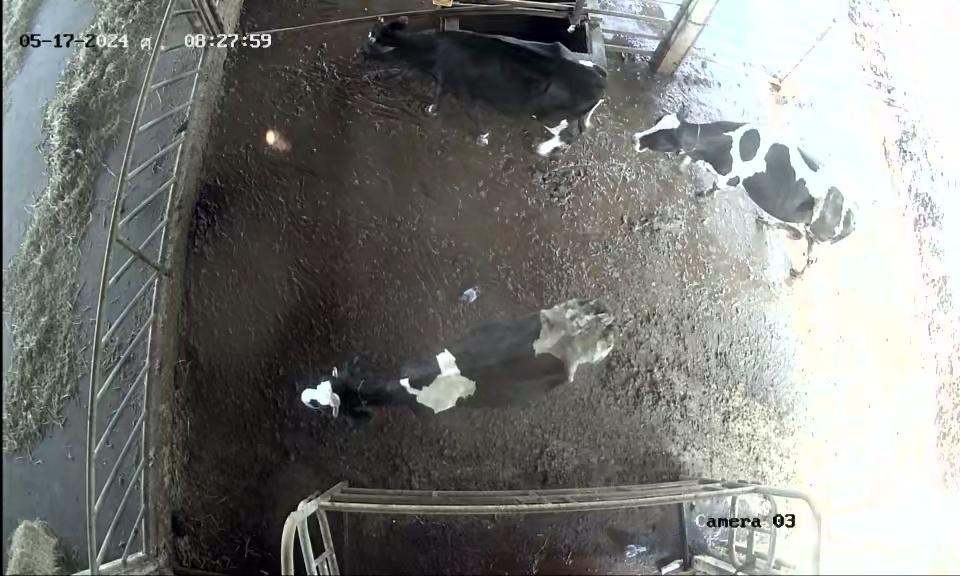stand: (270, 281, 631, 449), (621, 90, 873, 281), (335, 10, 608, 170)
